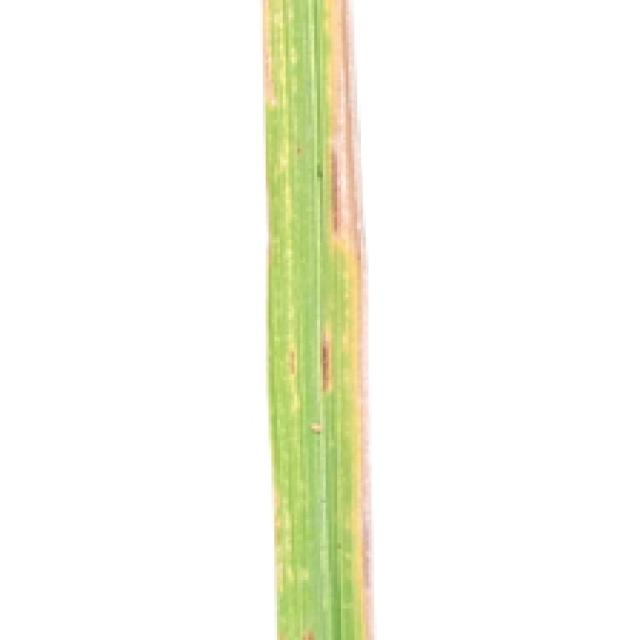Rice___Bacterial_Leaf_Blight: (260, 0, 376, 637)
